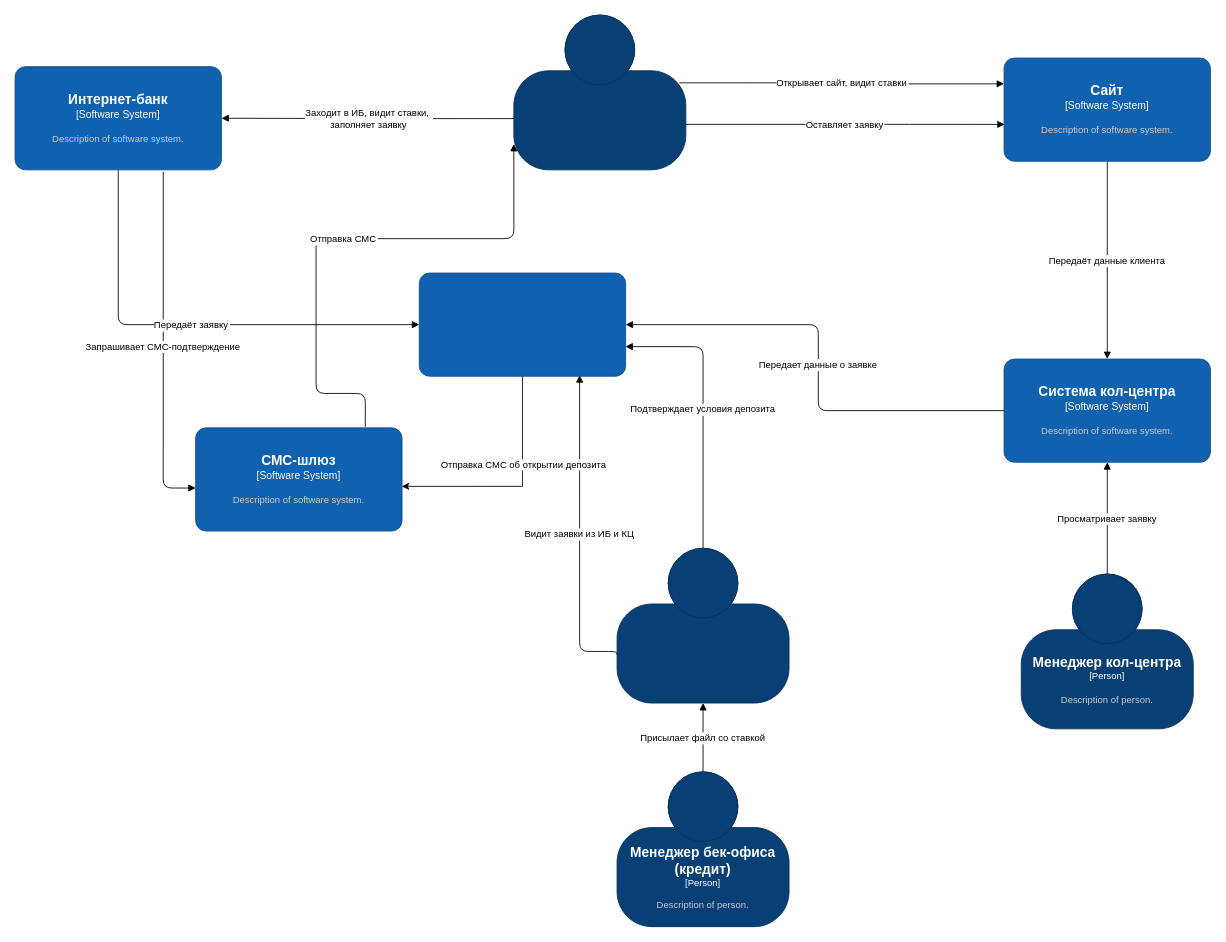
Image size: 1226x942. Some labels were removed from this diagram. The box of each missing label's shape, as (x1, y1, x2, y2) in pixels:
АБС [Software System] Description of software system.: (418, 272, 626, 376)
Менеджер бэк-офиса (депозит) [Person] Description of person.: (616, 547, 789, 703)
Пользователь [Person] Description of person.: (513, 14, 686, 170)
